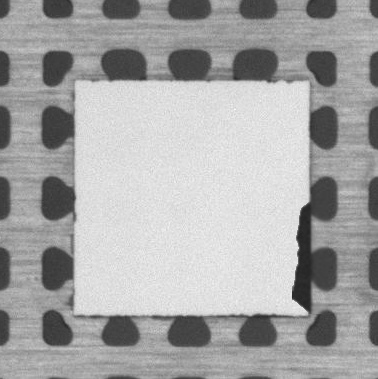DIE_BROKEN: (290, 200, 313, 310)
